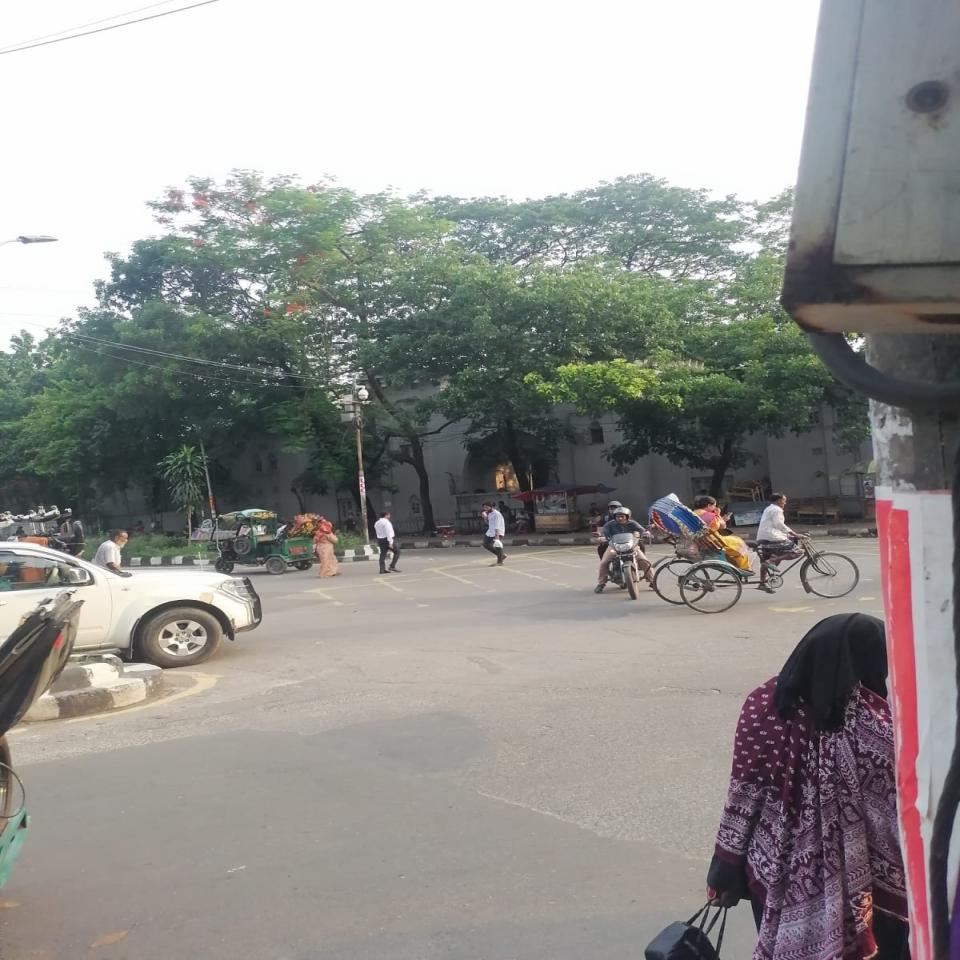person: (374, 510, 401, 574), (481, 502, 506, 566), (313, 520, 340, 578)
